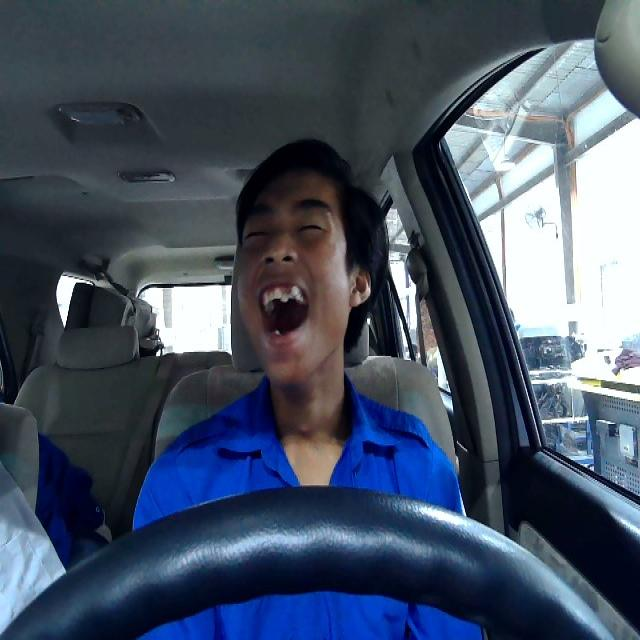yarning: (233, 171, 370, 384)
